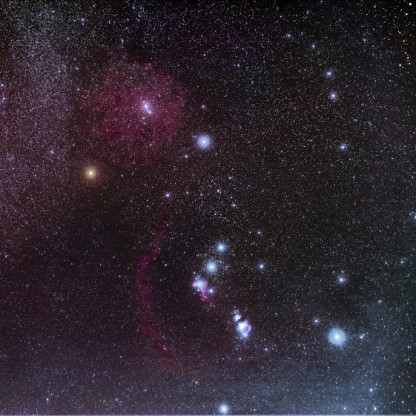Orion: (323, 316, 369, 357), (73, 154, 107, 192), (190, 126, 220, 158), (210, 387, 232, 416), (188, 275, 207, 296), (210, 234, 228, 256), (203, 257, 222, 277)
